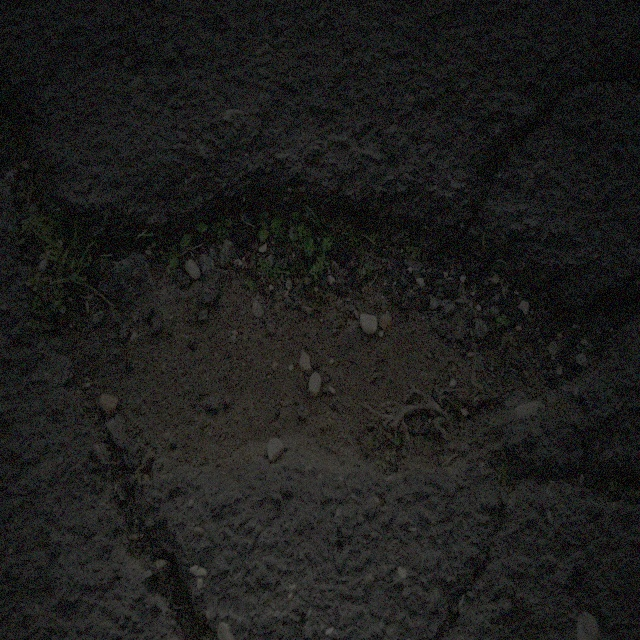pothole: (52, 156, 586, 538)
